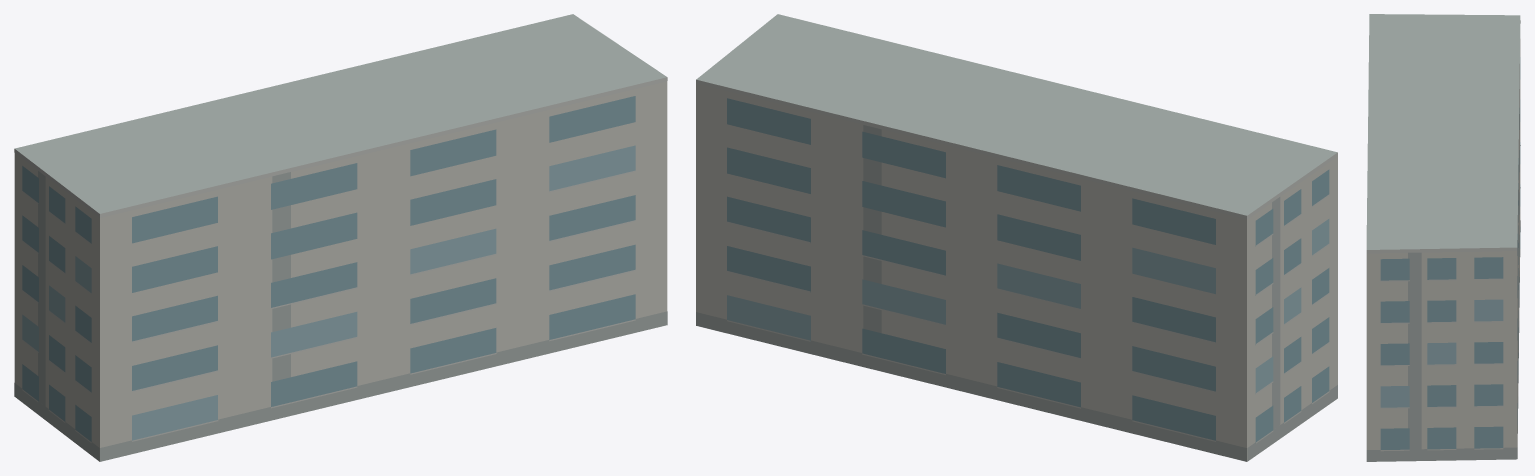
The model's file is residential-ea905351-3cf1-4f0f-aa57-fbe124a04bbe.glb.
The picture shows the model from 3 angles, left to right: view 1: azimuth 30°, elevation 25°; view 2: azimuth 150°, elevation 25°; view 3: azimuth 270°, elevation 25°; orthographic projection. The views are drawn at different scales.
Visible parts, largest first — view 1: residential-ea905351-3cf1-4f0f-aa57-fbe124a04bbe.tmp; view 2: residential-ea905351-3cf1-4f0f-aa57-fbe124a04bbe.tmp; view 3: residential-ea905351-3cf1-4f0f-aa57-fbe124a04bbe.tmp.
Boxes of the visible parts, box(x1,y1,x2,y2) form: residential-ea905351-3cf1-4f0f-aa57-fbe124a04bbe.tmp: box(14, 14, 667, 461); residential-ea905351-3cf1-4f0f-aa57-fbe124a04bbe.tmp: box(696, 14, 1337, 461); residential-ea905351-3cf1-4f0f-aa57-fbe124a04bbe.tmp: box(1366, 14, 1520, 461).
Size of the model in its own units: 36.44 by 15.25 by 10.05.
